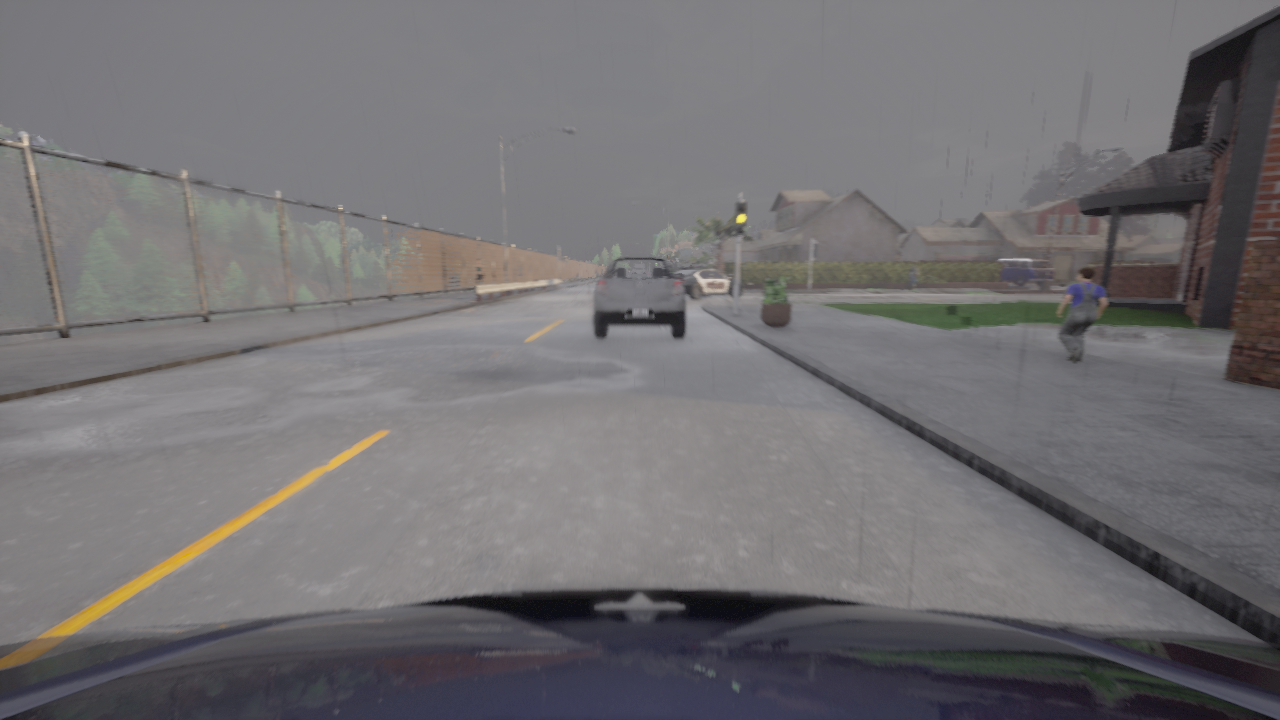cyclist: (0, 588, 1279, 719), (594, 257, 685, 338), (674, 266, 743, 300), (997, 258, 1053, 286), (672, 261, 683, 271)
pedestrian: (1058, 266, 1106, 362), (474, 259, 484, 286), (909, 262, 918, 289)
